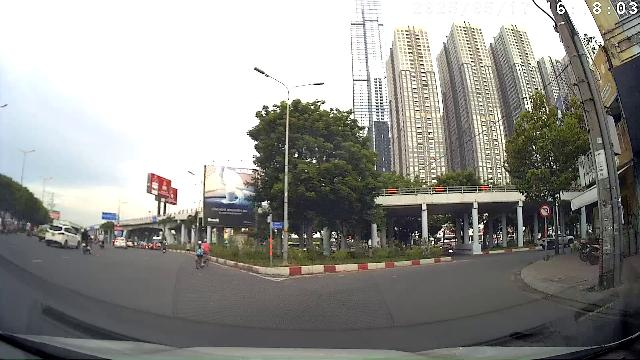123a-cam-re-trai: (540, 204, 552, 218)
